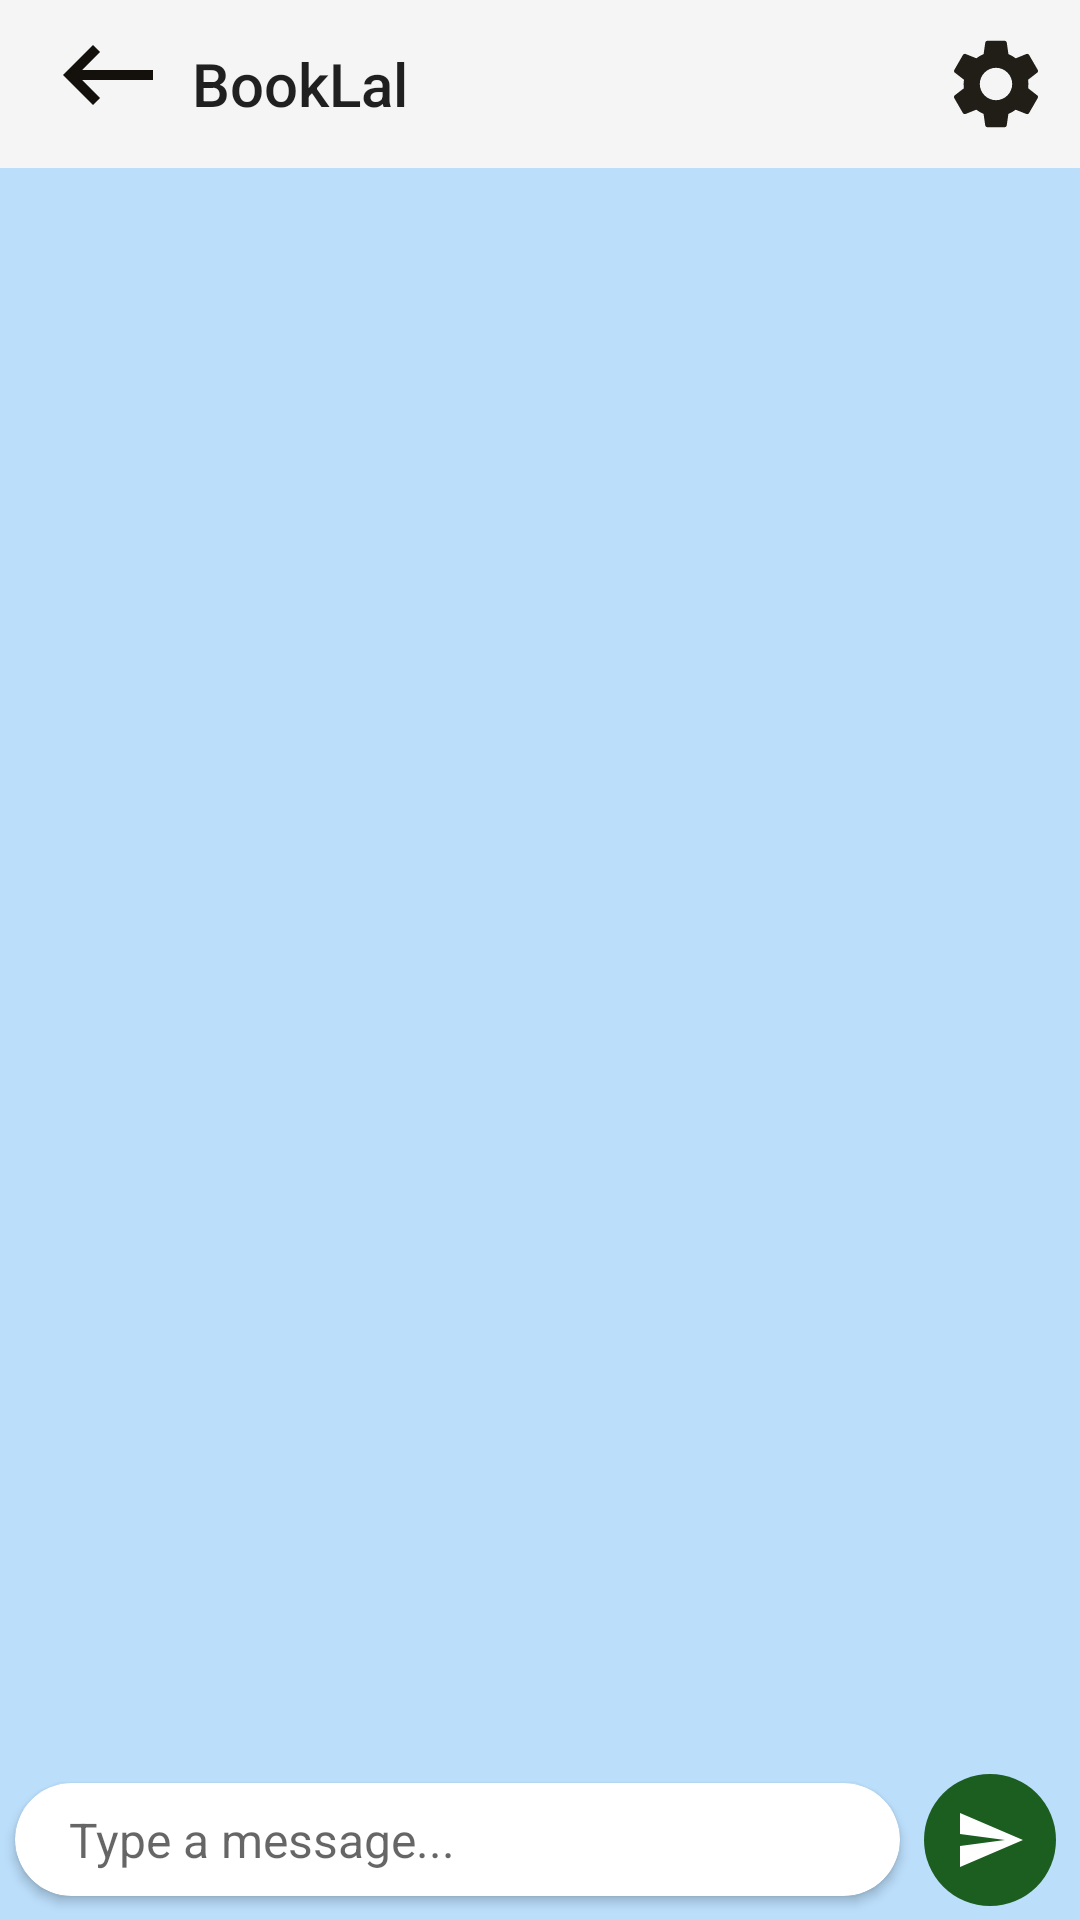

Named icons in this screenshot (1080px×1920px) and their bounding boxes, (x1=x1, y1=y1, x2=x2, y2=y2):
long back arrow: (x1=63, y1=45, x2=153, y2=105)
send: (x1=924, y1=1774, x2=1056, y2=1906)
settings gear: (x1=954, y1=40, x2=1038, y2=128)
